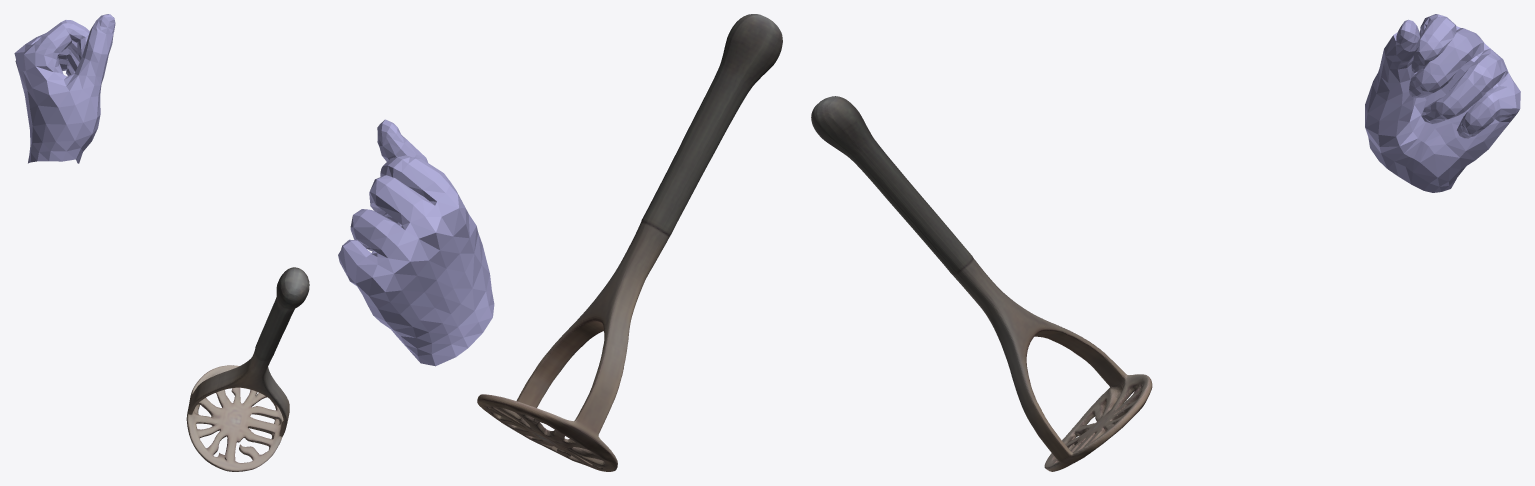
Rendered from frame_0010_source_000010_hand_object.glb.
3 renders of one model, left to right at view 1: azimuth 30°, elevation 25°; view 2: azimuth 150°, elevation 25°; view 3: azimuth 270°, elevation 25°, orthographic. The views are drawn at different scales.
Parts seen in each view (by area): view 1: world; view 2: world; view 3: world.
Boxes of the visible parts, x1,y1,x2,y2 form: world: (14,14,309,471); world: (338,14,782,471); world: (811,14,1520,471).
Bounding box in the file's own units: 0.1051 × 0.2834 × 0.4096.
